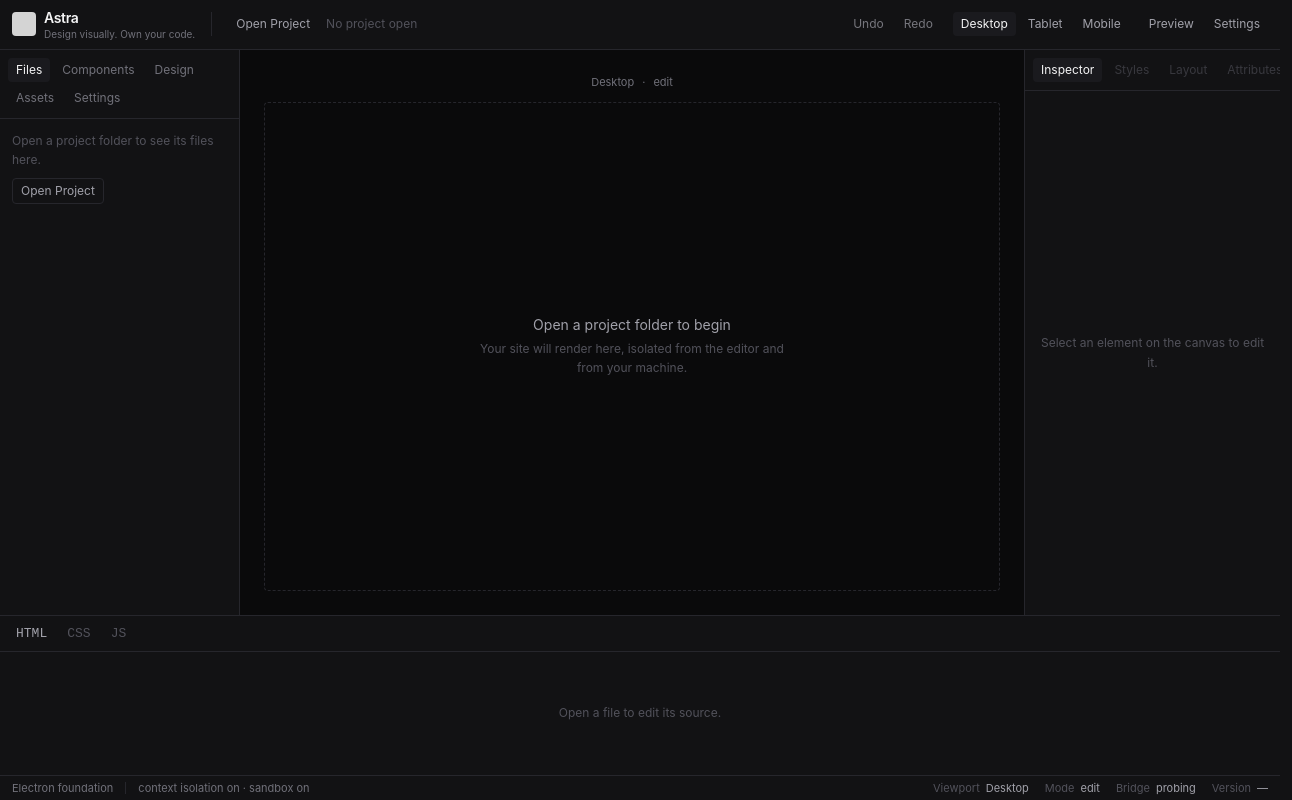
it: App shell — entry point › shows the entry page and opens it when clicked
Step 1. Click the button with aria-label "open a project folder" → [273, 24], box left=228, top=12, right=318, bottom=36
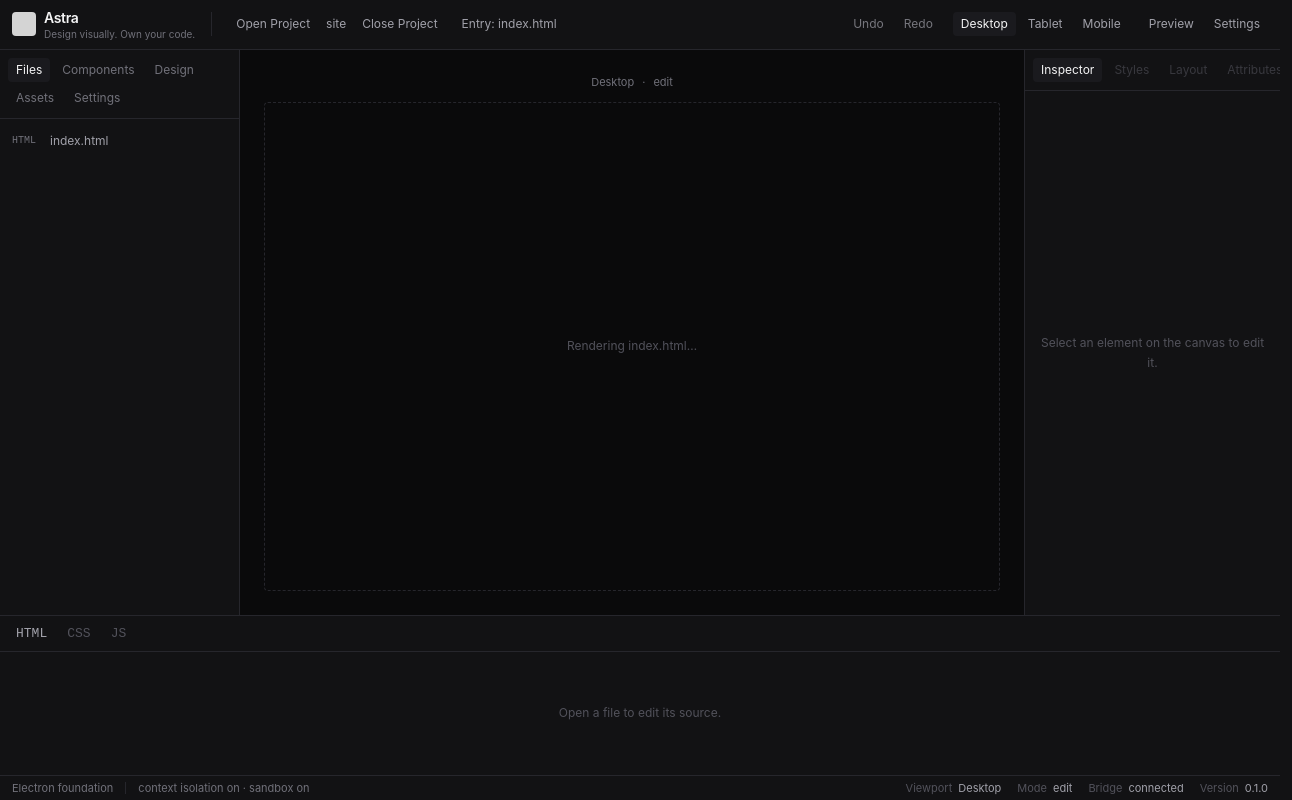
Check: the button with test id "entry-point" reads "Entry: index.html"
Step 2. Click the button with test id "entry-point" → [509, 24], box left=454, top=12, right=565, bottom=36
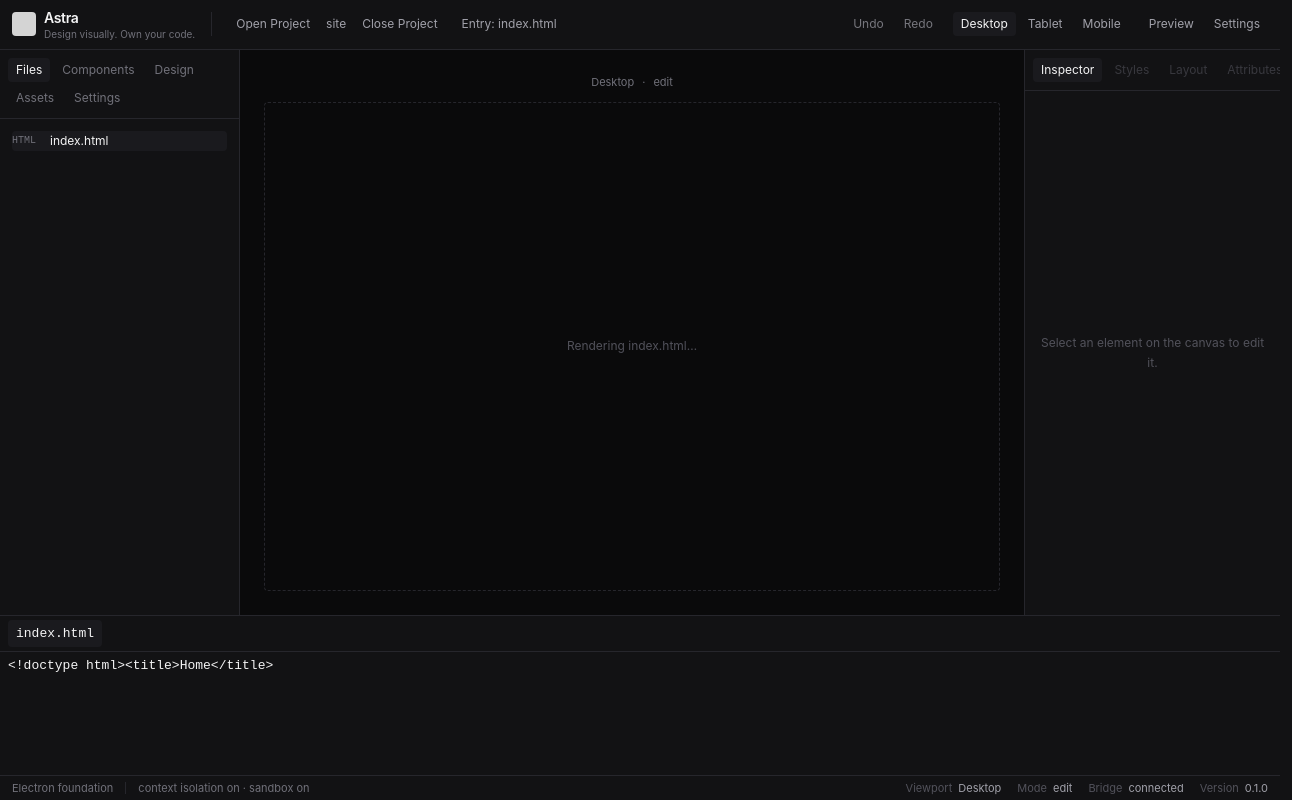
Check: the text "<!doctype html><title>Home</title>" is shown, box left=8, top=658, right=273, bottom=673
